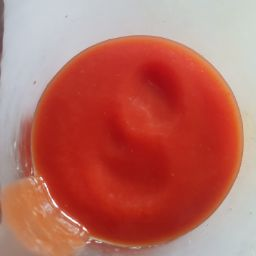Tomato paste: (7, 14, 256, 256), (44, 35, 236, 238), (71, 83, 223, 211)
